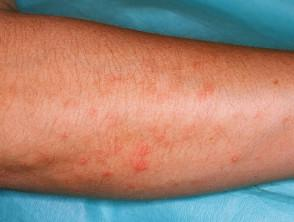Eczema: (49, 83, 78, 116), (125, 143, 158, 167), (196, 76, 224, 100), (91, 163, 120, 186), (196, 120, 223, 144), (186, 174, 214, 196), (148, 124, 172, 148), (113, 173, 138, 196), (106, 72, 139, 89), (58, 171, 81, 193), (80, 70, 115, 84), (6, 86, 38, 101), (140, 57, 168, 74), (51, 122, 72, 144), (143, 74, 166, 94), (139, 178, 167, 194), (80, 174, 106, 191), (263, 71, 283, 93), (189, 57, 212, 76), (162, 174, 185, 192), (263, 153, 285, 171), (125, 123, 147, 139), (104, 46, 124, 63), (151, 109, 178, 121), (18, 158, 41, 172), (138, 105, 155, 123), (107, 140, 125, 157), (249, 106, 264, 126), (229, 150, 238, 183), (180, 126, 198, 142), (278, 110, 291, 132), (81, 101, 98, 117), (211, 160, 227, 176), (107, 109, 121, 127), (247, 165, 264, 179), (81, 134, 100, 146), (0, 163, 11, 181), (78, 153, 89, 170), (230, 112, 244, 125)
